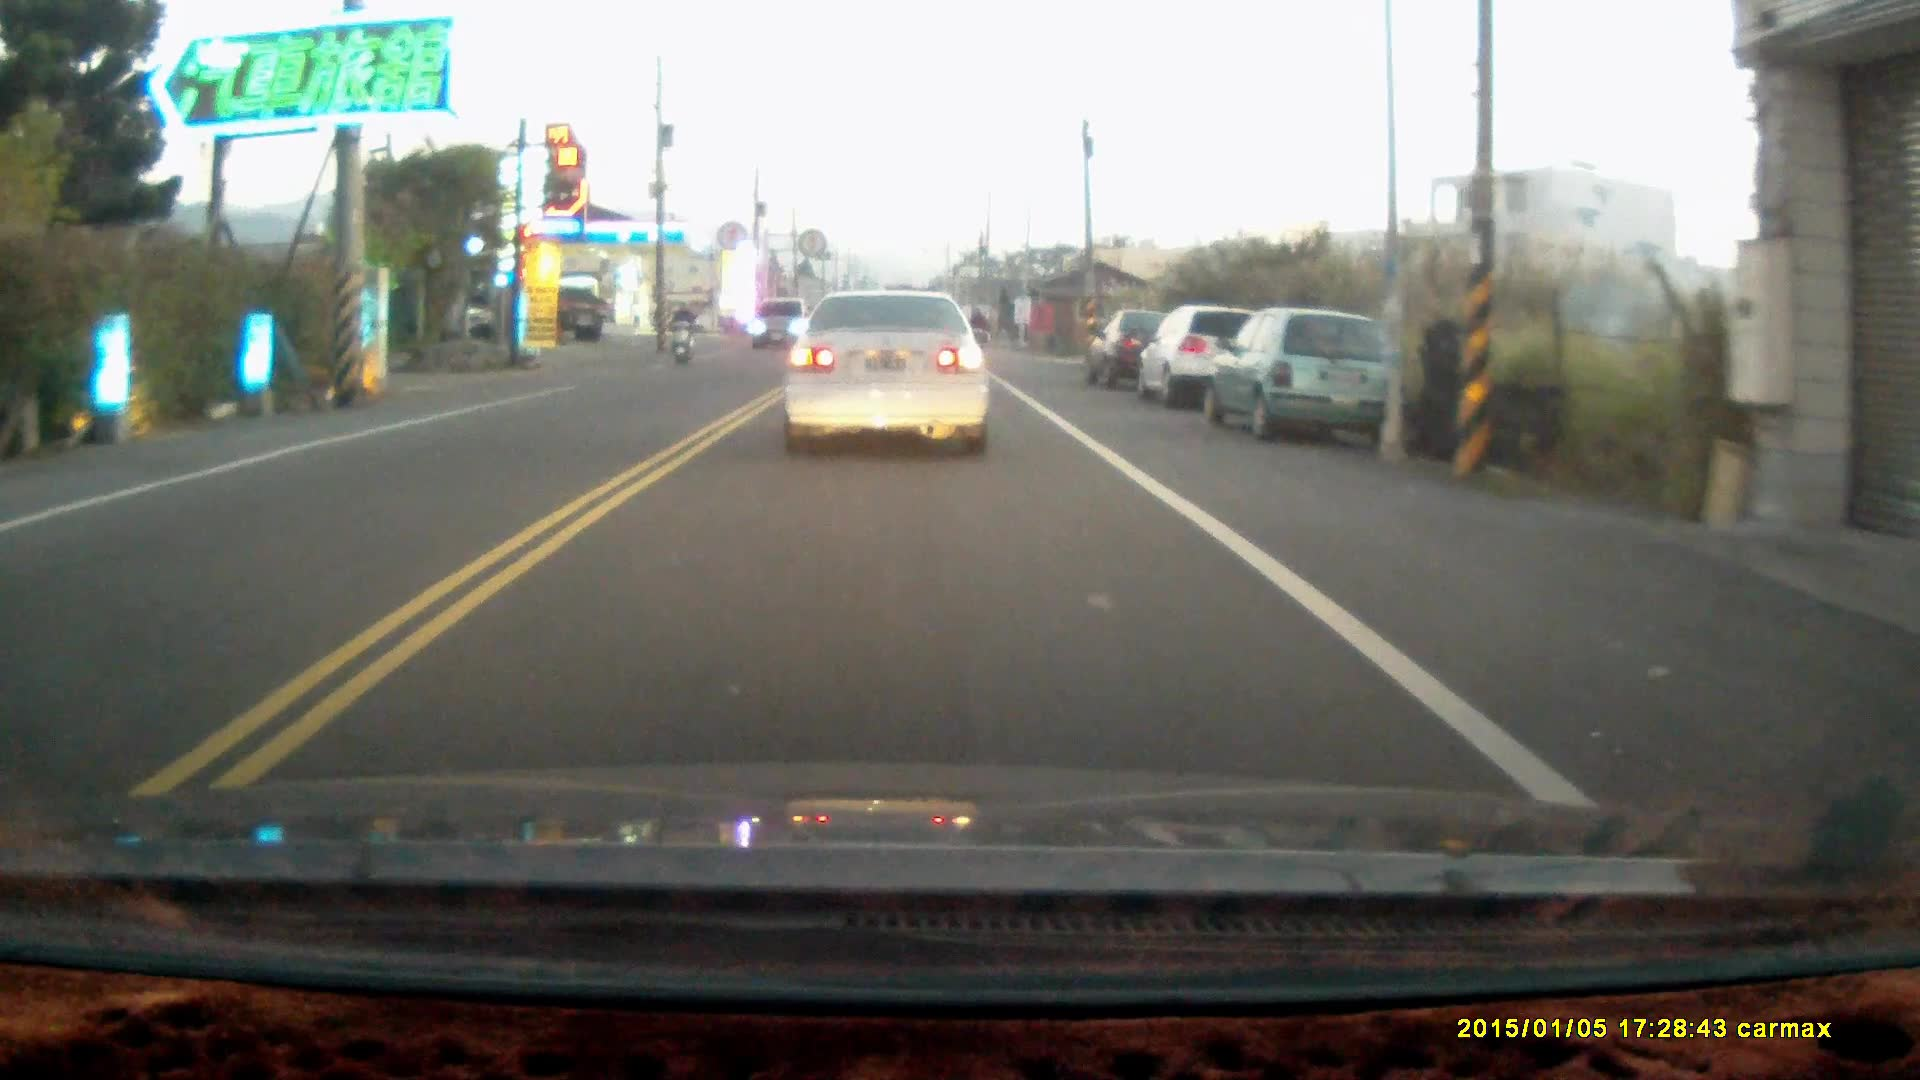rider: (667, 298, 696, 366)
vehicle: (784, 286, 996, 458), (1196, 308, 1403, 444), (1146, 306, 1266, 412), (1090, 308, 1187, 389), (753, 300, 817, 353)
